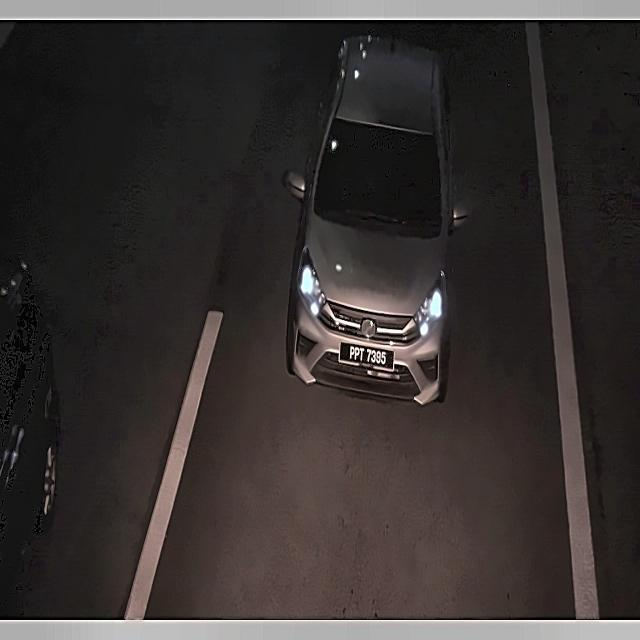car: (338, 335, 396, 380)
